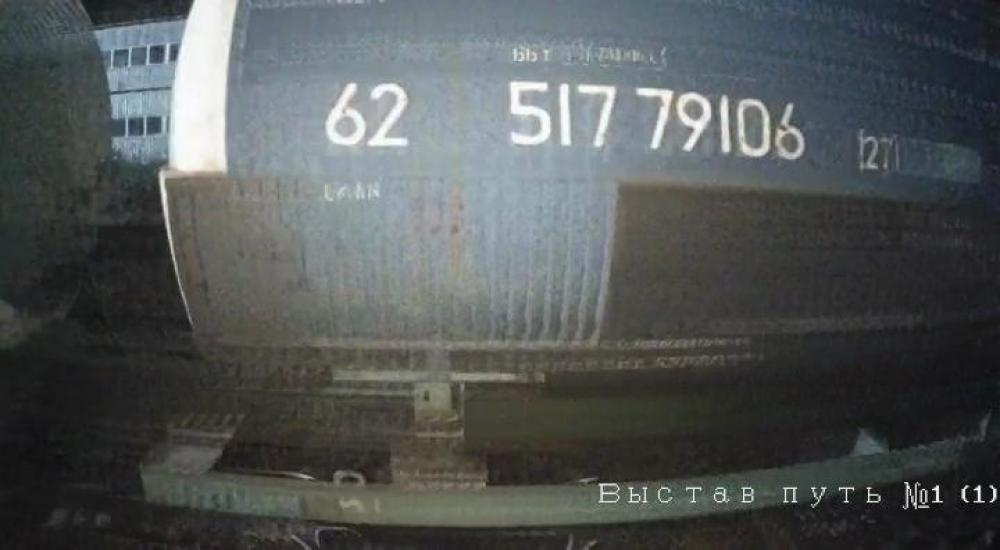Wagon-number: (504, 74, 812, 165)
